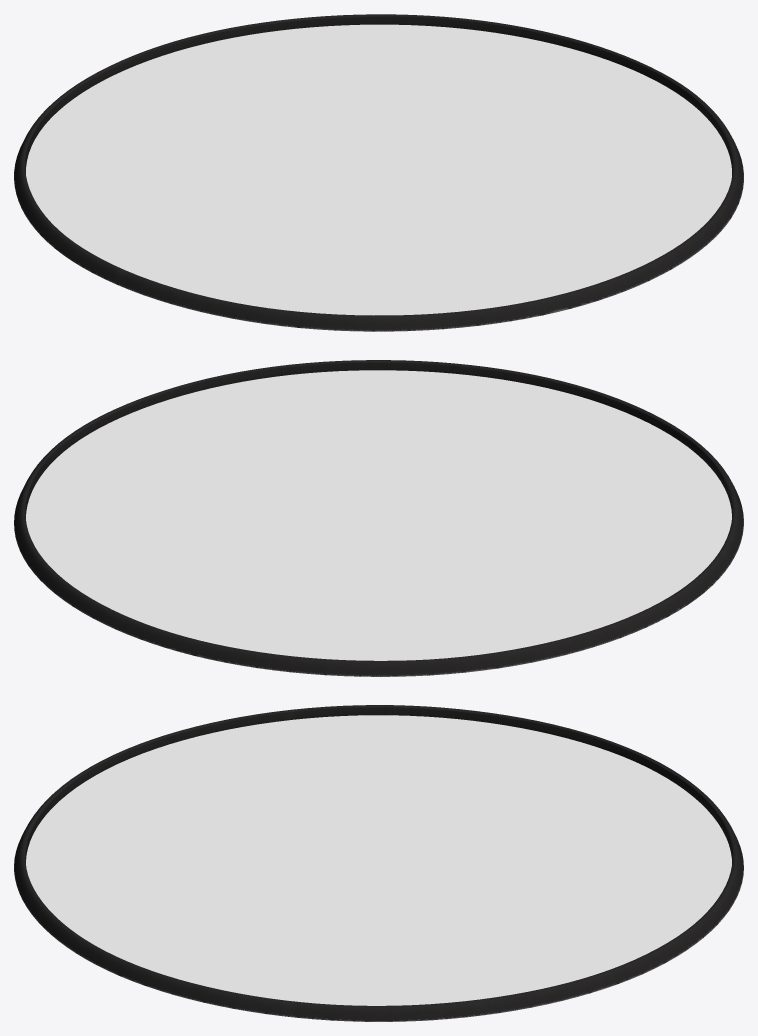
File: round_mirror.gltf
The picture shows the model from 3 angles, top to bottom: view 1: azimuth 30°, elevation 25°; view 2: azimuth 150°, elevation 25°; view 3: azimuth 270°, elevation 25°; orthographic projection.
Parts seen in each view (by area): view 1: round_mirror; view 2: round_mirror; view 3: round_mirror.
Part boxes in pixels (x1,y1,x2,y2): round_mirror: (14, 14, 743, 331); round_mirror: (14, 360, 743, 676); round_mirror: (14, 705, 743, 1021).
Bounding box in the file's own units: 0.8 × 0.0144 × 0.8.
Materials: 1 (1 with a texture image).
